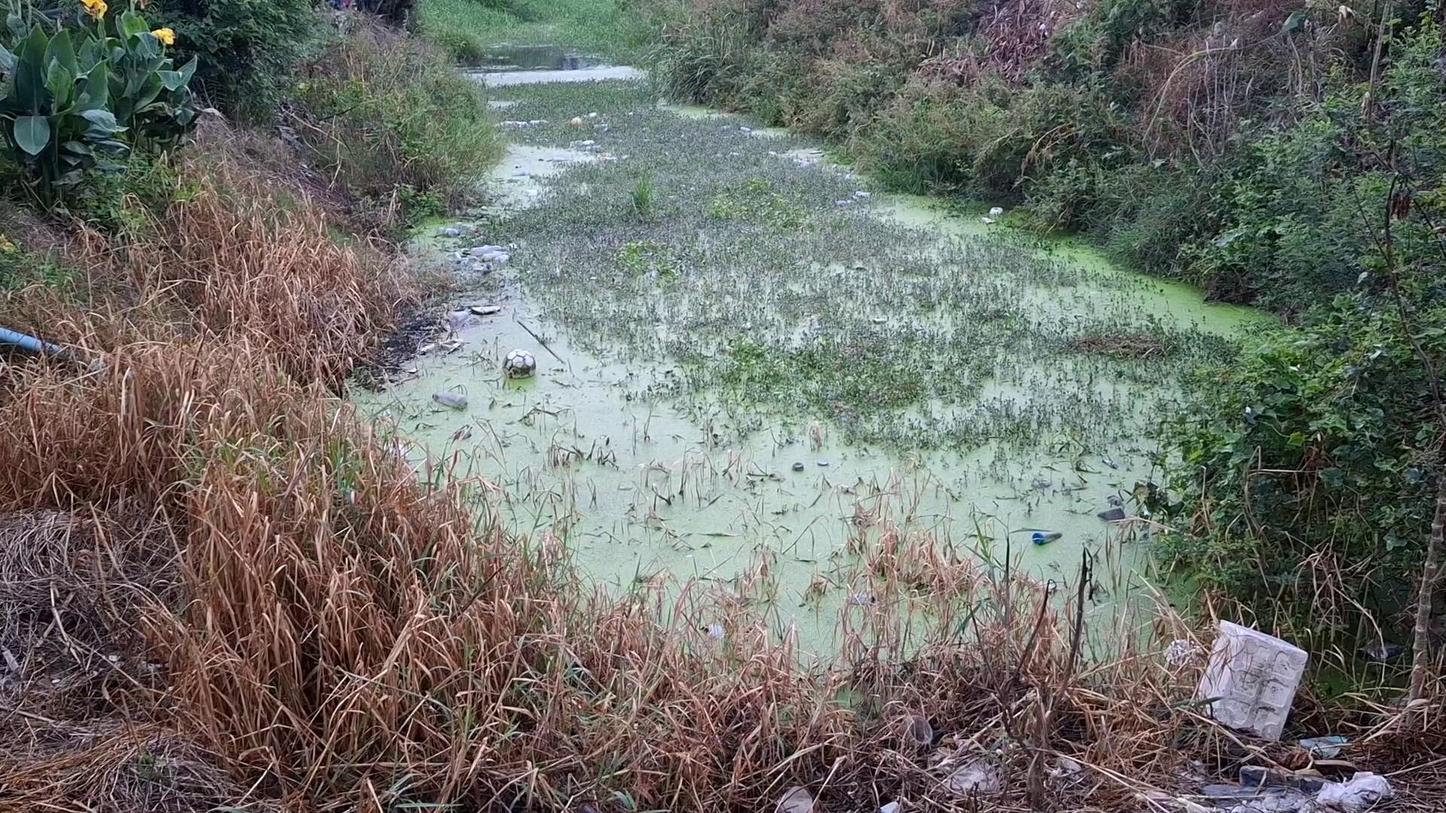ignore: (715, 260, 1188, 464), (543, 161, 885, 377), (490, 76, 787, 227)
trash: (489, 347, 553, 382), (456, 247, 523, 280), (1079, 496, 1140, 531), (423, 381, 480, 415), (838, 577, 886, 610), (1023, 521, 1072, 553), (439, 219, 486, 247), (460, 299, 507, 325), (975, 201, 1014, 231)
